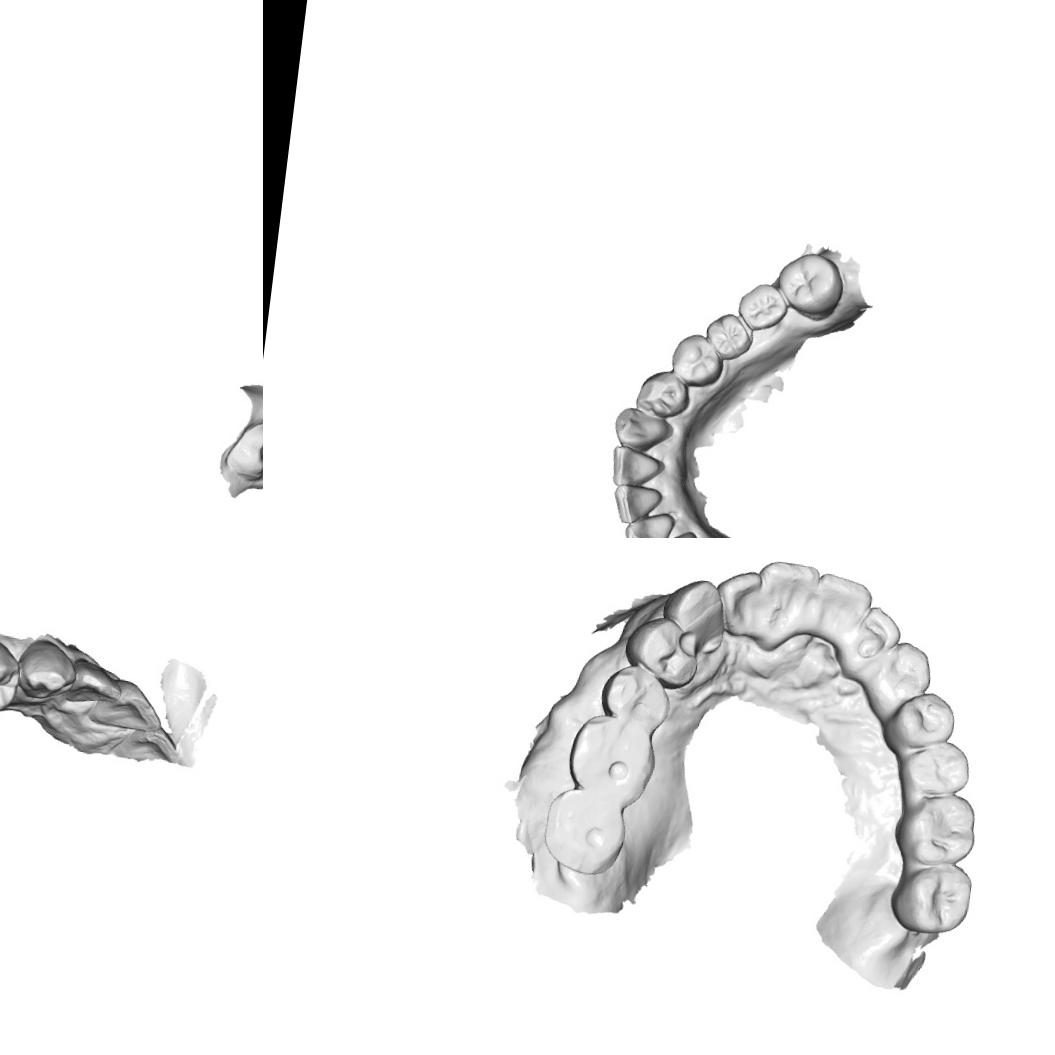canine: (655, 574, 729, 654), (866, 636, 935, 713), (13, 634, 80, 703), (610, 404, 676, 454)
incisor: (752, 555, 822, 641), (809, 568, 876, 656), (86, 674, 168, 734), (846, 602, 904, 670), (714, 568, 764, 640), (110, 718, 184, 764), (66, 655, 126, 709), (608, 444, 664, 492), (610, 482, 665, 528), (621, 507, 675, 538)
molar: (536, 785, 633, 882), (565, 714, 660, 804), (888, 786, 983, 870), (888, 859, 977, 939), (772, 248, 848, 320), (734, 280, 790, 334), (702, 309, 756, 365)
premolar: (620, 614, 700, 692), (597, 663, 674, 733), (902, 734, 974, 802), (888, 686, 958, 752), (668, 330, 727, 390), (634, 367, 694, 422), (0, 635, 24, 715)
